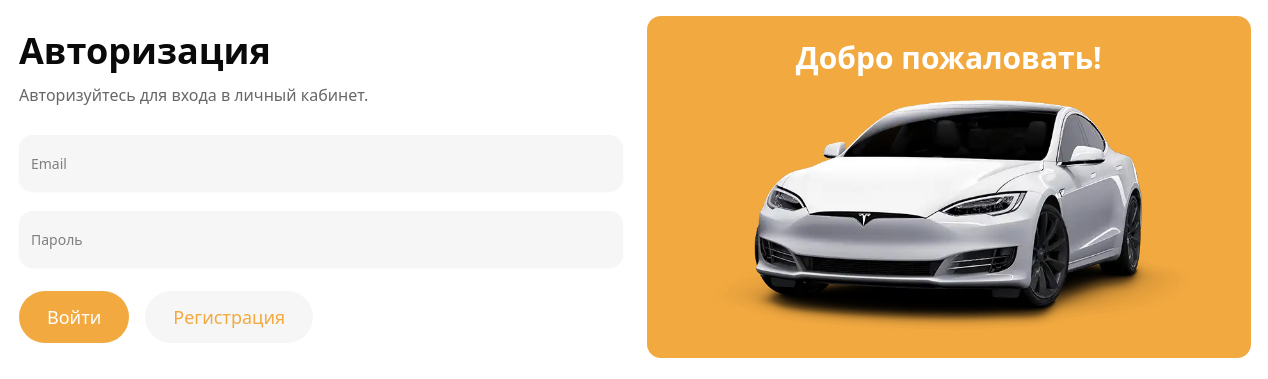
Test: LoginForm › should show error if authorization failed
Type "test@example.com" into the field with placeholder "Email". click: (321, 163)
box: x1=19 y1=135 x2=622 y2=191
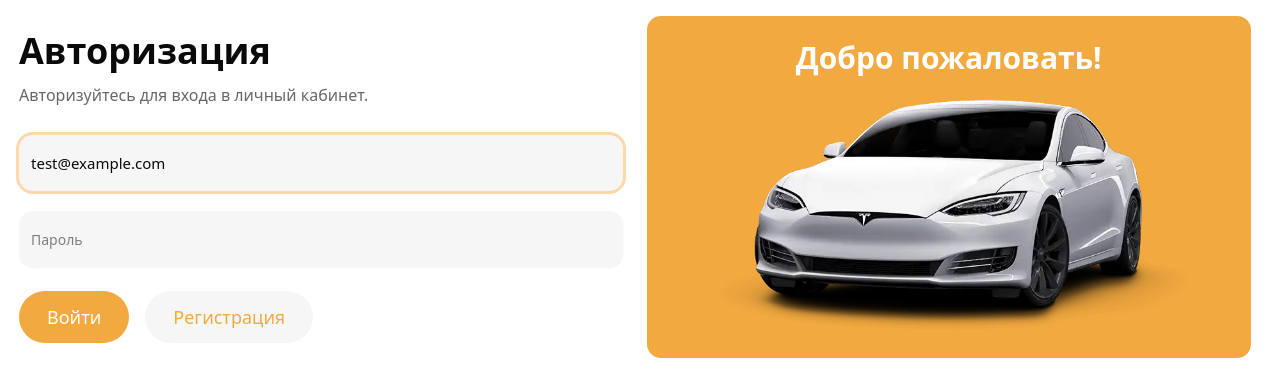
Type "wrongpassword" into the password field with placeholder "Пароль". click: (321, 239)
box: x1=19 y1=211 x2=622 y2=267
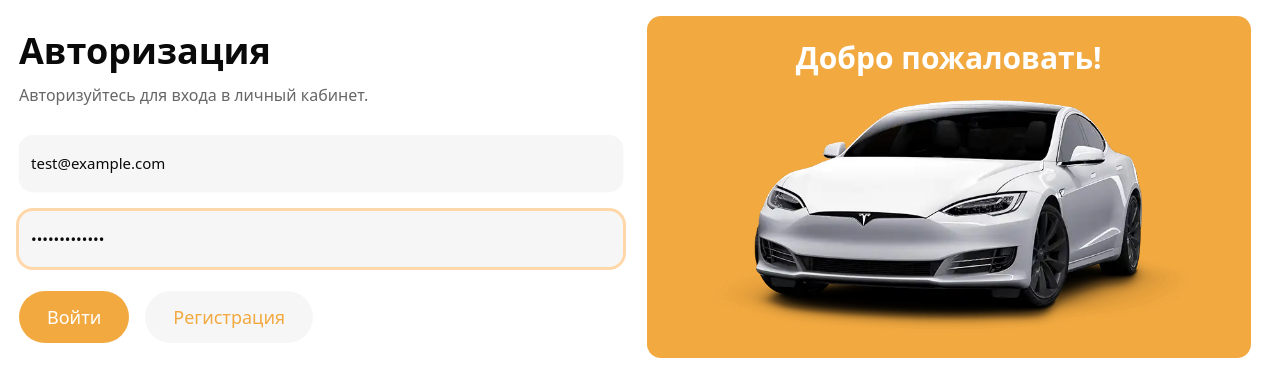
Click the button labelled "Войти". click: (74, 317)
box: x1=19 y1=291 x2=129 y2=343
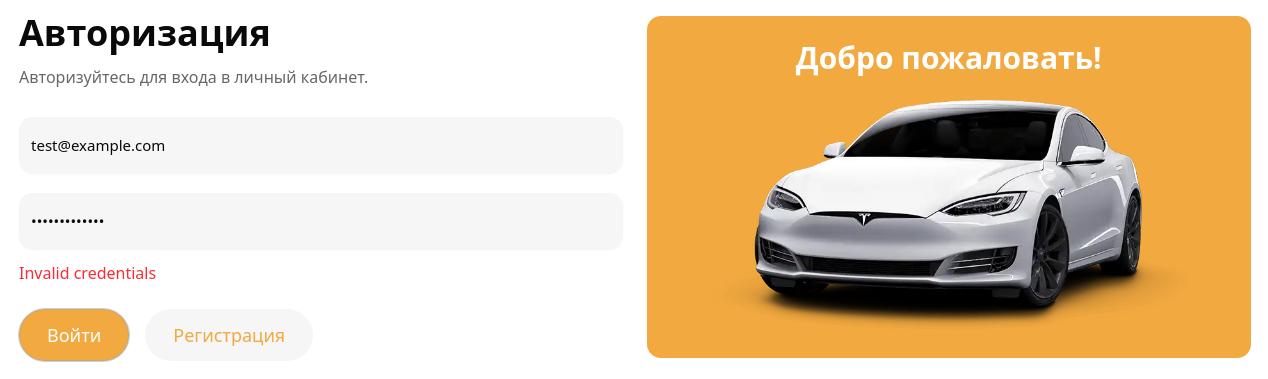
Now the text "Invalid credentials" is shown, box x1=19 y1=262 x2=156 y2=284
